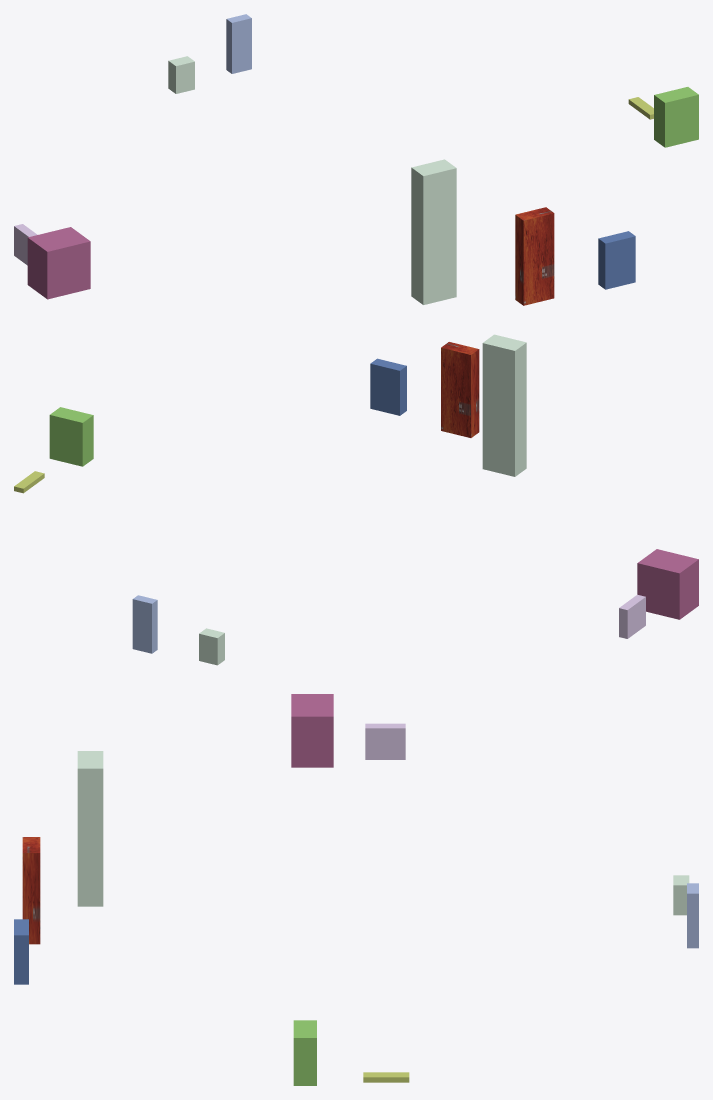
File: world.glb
3 renders of one model, top to bottom at view 1: azimuth 30°, elevation 25°; view 2: azimuth 150°, elevation 25°; view 3: azimuth 270°, elevation 25°, orthographic. The views are drawn at different scales.
Visible parts, largest first — view 1: Box006, Box008, Box007, Box004, Box005, Box001, Box002, Box003; view 2: Box006, Box008, Box007, Box004, Box005, Box001, Box003, Box002; view 3: Box006, Box008, Box007, Box004, Box003, Box005, Box001, Box002.
Part boxes in pixels (<box>): Box006: <box>411,159,456,304</box>; Box008: <box>27,227,90,299</box>; Box007: <box>515,207,554,305</box>; Box004: <box>654,87,698,147</box>; Box005: <box>598,231,635,289</box>; Box001: <box>226,14,251,73</box>; Box002: <box>168,56,194,93</box>; Box003: <box>14,224,37,265</box>; Box006: <box>482,334,526,476</box>; Box008: <box>637,549,698,619</box>; Box007: <box>441,342,479,437</box>; Box004: <box>49,407,93,466</box>; Box005: <box>370,358,406,415</box>; Box001: <box>132,595,157,653</box>; Box003: <box>619,594,645,638</box>; Box002: <box>199,628,224,665</box>; Box006: <box>77,751,103,906</box>; Box008: <box>291,694,333,767</box>; Box007: <box>22,837,40,944</box>; Box004: <box>293,1020,316,1085</box>; Box003: <box>365,723,405,759</box>; Box005: <box>14,919,28,984</box>; Box001: <box>687,883,698,948</box>; Box002: <box>673,875,689,915</box>.
Bounding box in the file's own units: 294 × 55.62 × 250.
9 materials, 1 textured.
